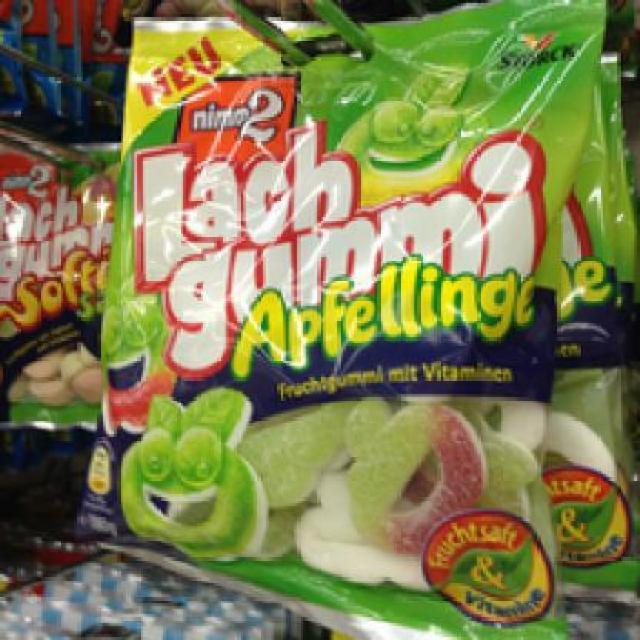Candy: (89, 6, 568, 623)
